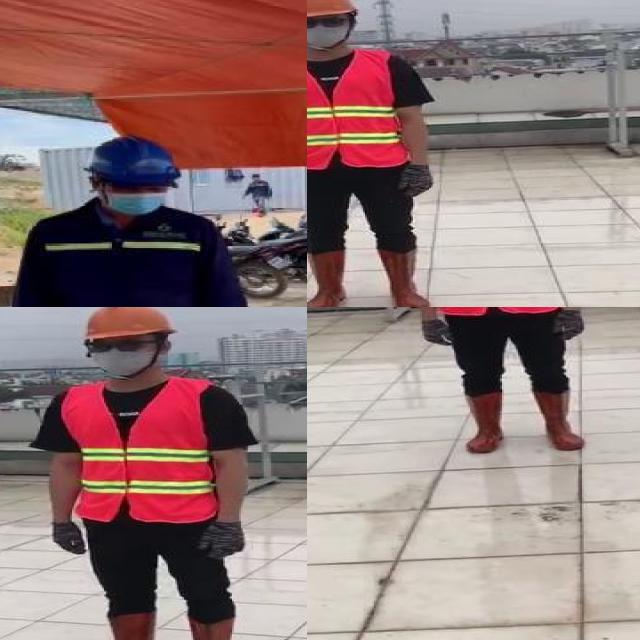boots: (373, 247, 434, 307), (530, 389, 588, 450), (461, 392, 507, 454), (307, 249, 349, 307), (89, 613, 162, 640), (183, 616, 241, 640)
face_mask: (98, 176, 172, 216), (84, 336, 154, 376), (307, 13, 353, 49)
glasses: (80, 337, 151, 355), (307, 15, 353, 31)
hand_glove: (195, 520, 248, 561), (51, 522, 86, 557), (415, 320, 456, 347), (399, 168, 436, 196), (554, 312, 588, 341)
head_helmet: (85, 133, 183, 185), (77, 307, 178, 338), (307, 0, 356, 19)
person: (32, 307, 262, 640), (4, 131, 273, 307), (307, 0, 442, 307), (395, 307, 597, 458)
vest: (58, 377, 225, 524), (307, 49, 407, 166)
